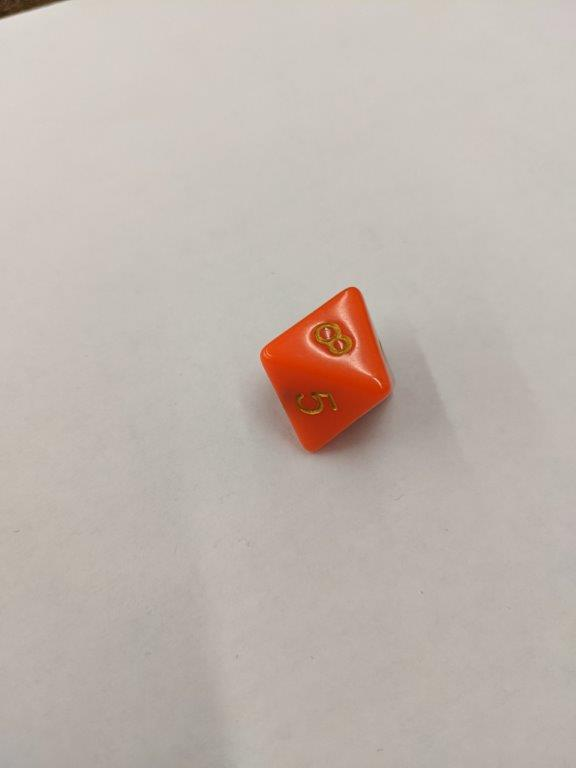d8-8: (257, 286, 397, 457)
